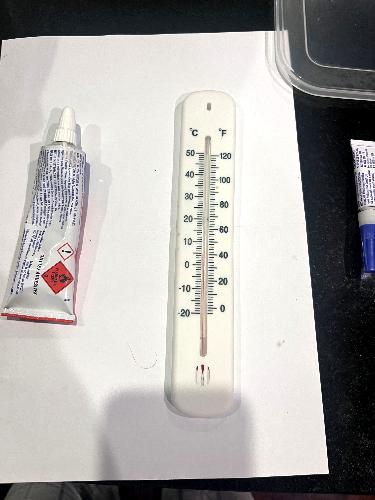thermo: (168, 93, 240, 418)
